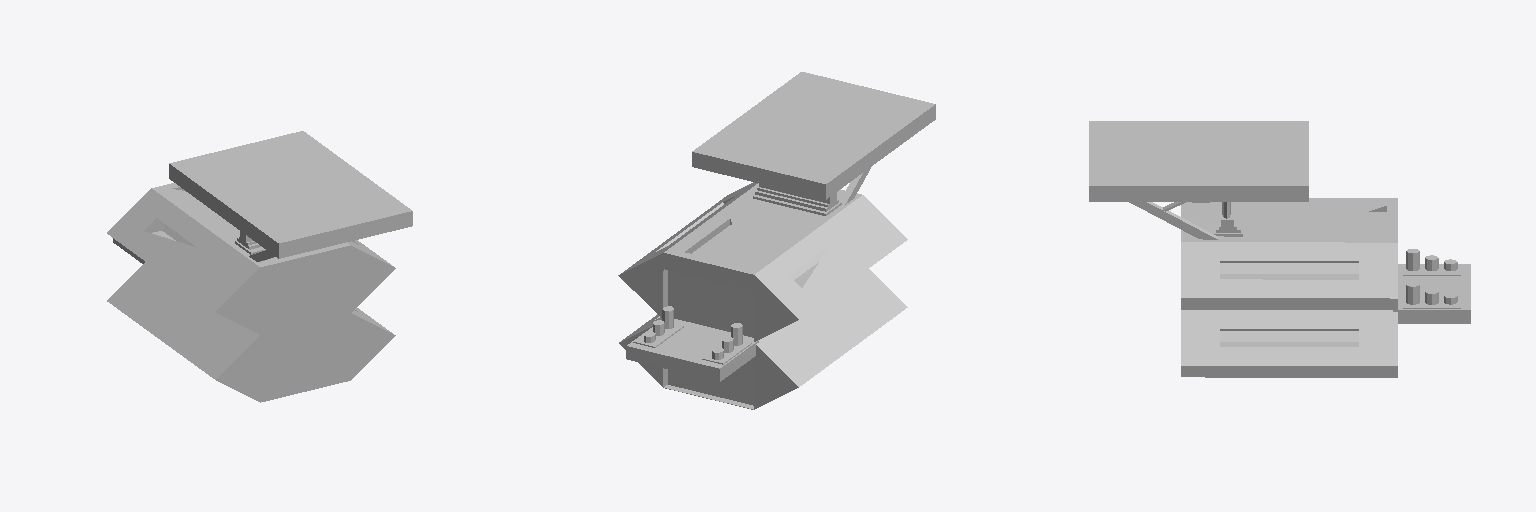
Rendered from Final Stage Ship Hanger.obj.
3 views of the same model, side by side, from view 1: azimuth 30°, elevation 25°; view 2: azimuth 150°, elevation 25°; view 3: azimuth 270°, elevation 25° (orthographic).
Visible parts, largest first — view 1: pCube7, pCube10, pasted__pCylinder4 group11; view 2: pCube7, pCube10, pasted__pCylinder4 group11, pCube5; view 3: pCube7, pCube10, pasted__pCylinder4 group11, pCube5, pCube9.
Part boxes in pixels (bbox=[...]): pCube7: bbox=[107, 183, 395, 334]; pCube10: bbox=[169, 131, 412, 258]; pasted__pCylinder4 group11: bbox=[107, 262, 395, 402]; pCube7: bbox=[618, 182, 907, 341]; pCube10: bbox=[692, 72, 935, 199]; pasted__pCylinder4 group11: bbox=[619, 269, 907, 409]; pCube5: bbox=[626, 320, 758, 381]; pCube7: bbox=[1181, 198, 1397, 309]; pCube10: bbox=[1089, 121, 1308, 201]; pasted__pCylinder4 group11: bbox=[1181, 310, 1397, 377]; pCube5: bbox=[1393, 264, 1470, 323]; pCube9: bbox=[1129, 202, 1217, 239].
Size of the model in its own units: 17.6 by 18.55 by 32.11.